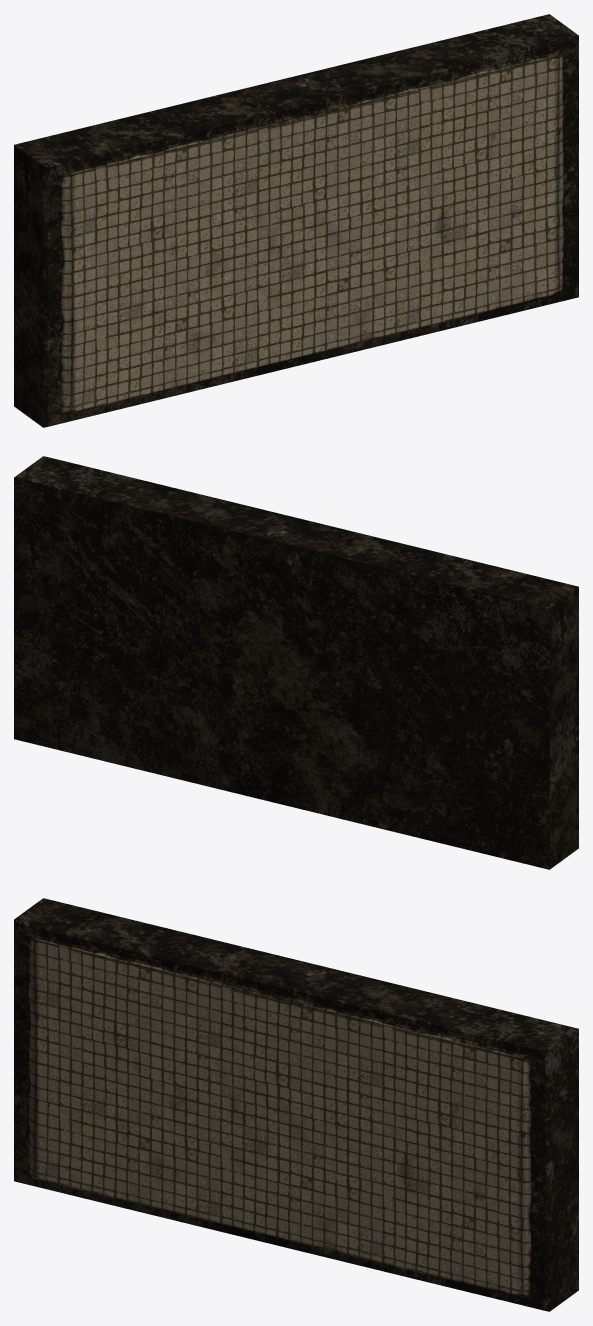
The model's file is SM_WallPlainHalf02.FBX.
3 renders of one model, top to bottom at view 1: azimuth 30°, elevation 25°; view 2: azimuth 150°, elevation 25°; view 3: azimuth 330°, elevation 25°, orthographic.
Parts seen in each view (by area): view 1: SM_WallPlainHalf02_LOD0; view 2: SM_WallPlainHalf02_LOD0; view 3: SM_WallPlainHalf02_LOD0.
Boxes of the visible parts, bbox=[...] form: SM_WallPlainHalf02_LOD0: bbox=[14, 14, 578, 427]; SM_WallPlainHalf02_LOD0: bbox=[14, 456, 578, 869]; SM_WallPlainHalf02_LOD0: bbox=[14, 898, 578, 1311].
Size of the model in its own units: 300 by 32.04 by 140.
